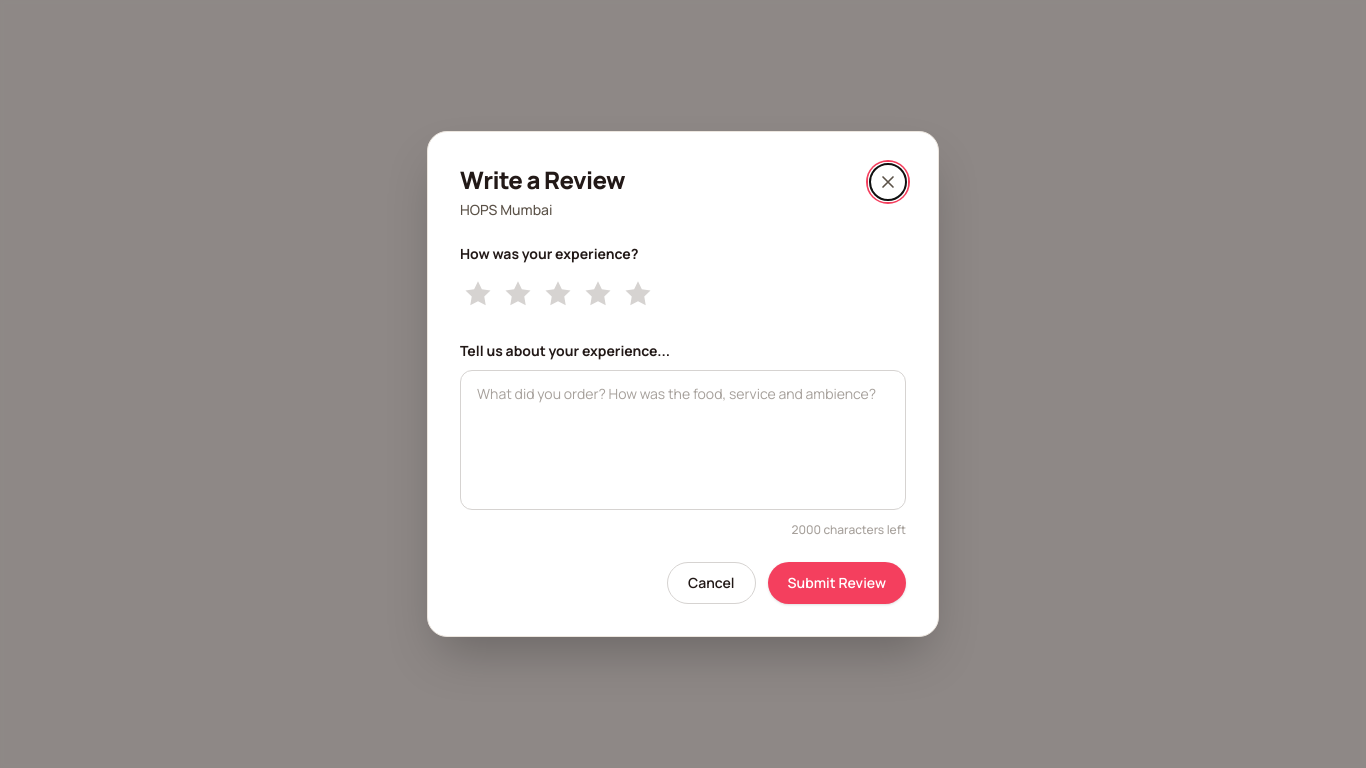
Scenario: WriteReviewModal validation › rejects a review shorter than 10 characters
Click the radio button named "Rate 5 stars" at x=638, y=294, box 620,276 -> 656,312
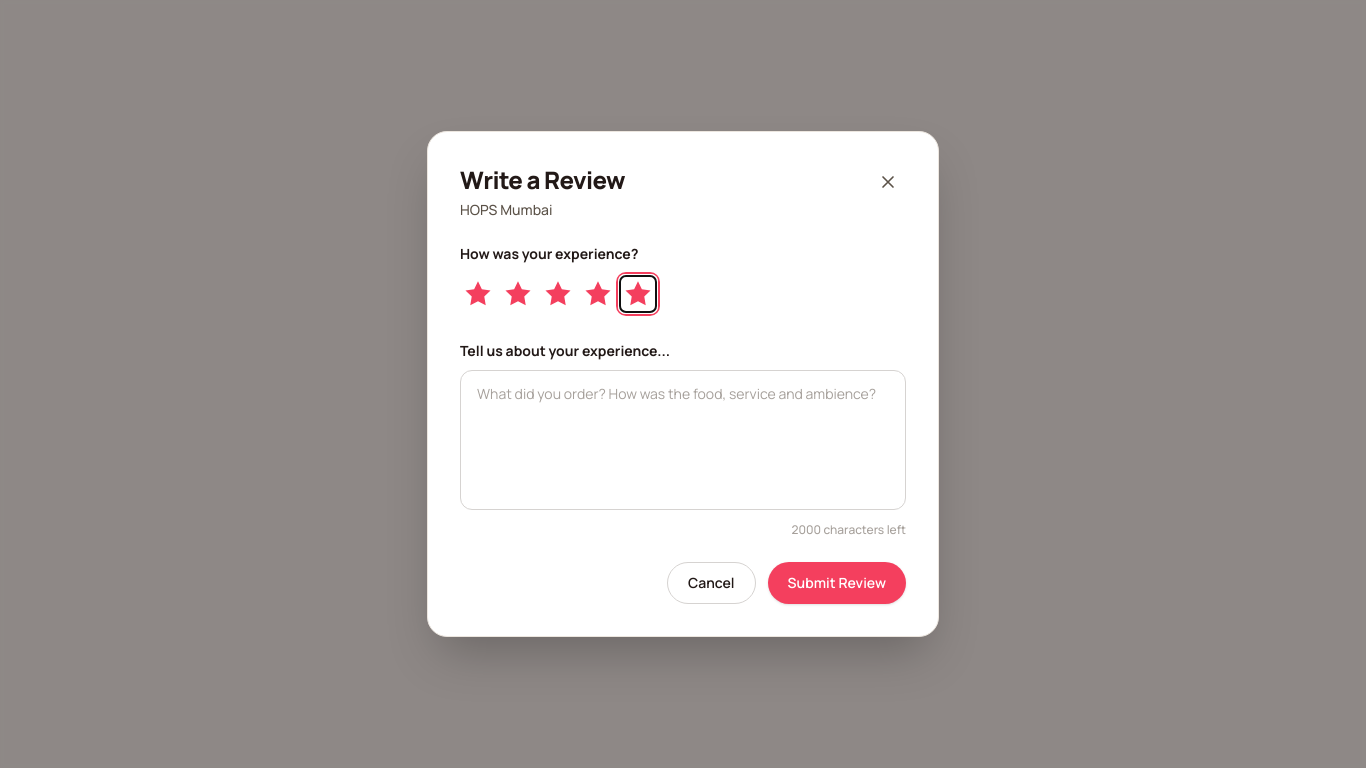
Type "too short" into the text box labelled "Tell us about your experience..." at x=683, y=440, box 460,370 -> 906,510
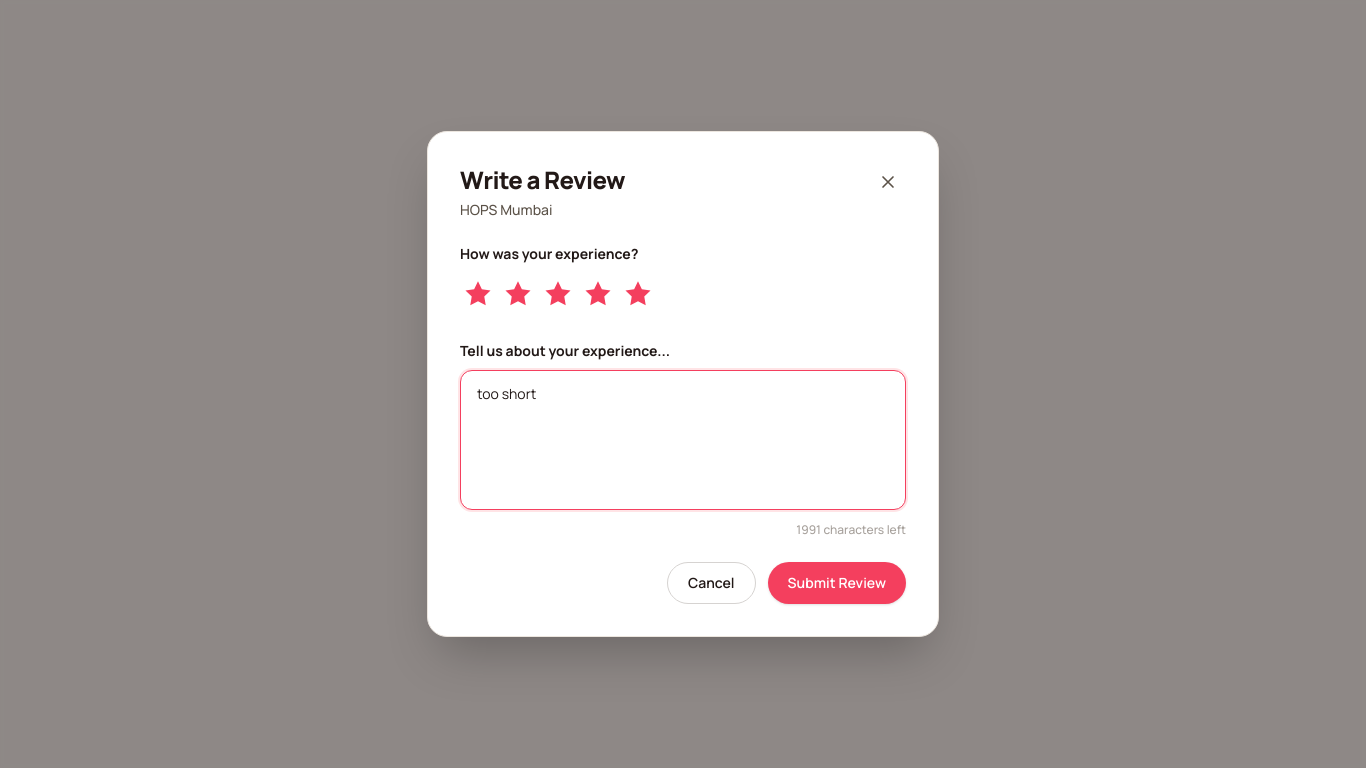
Click the button "Submit Review" at x=837, y=583, box 768,562 -> 906,604
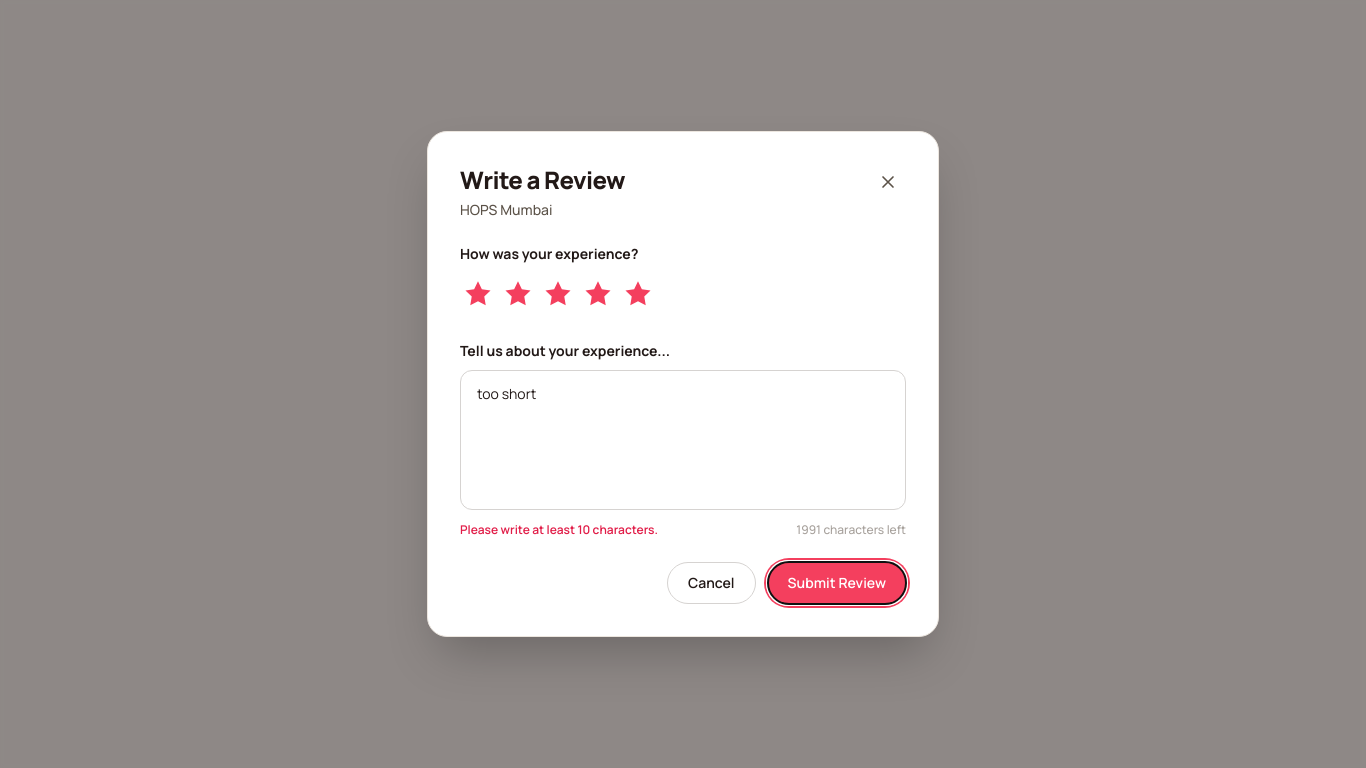
Now the message shows "at least 10 characters", box 460,521 -> 658,538
